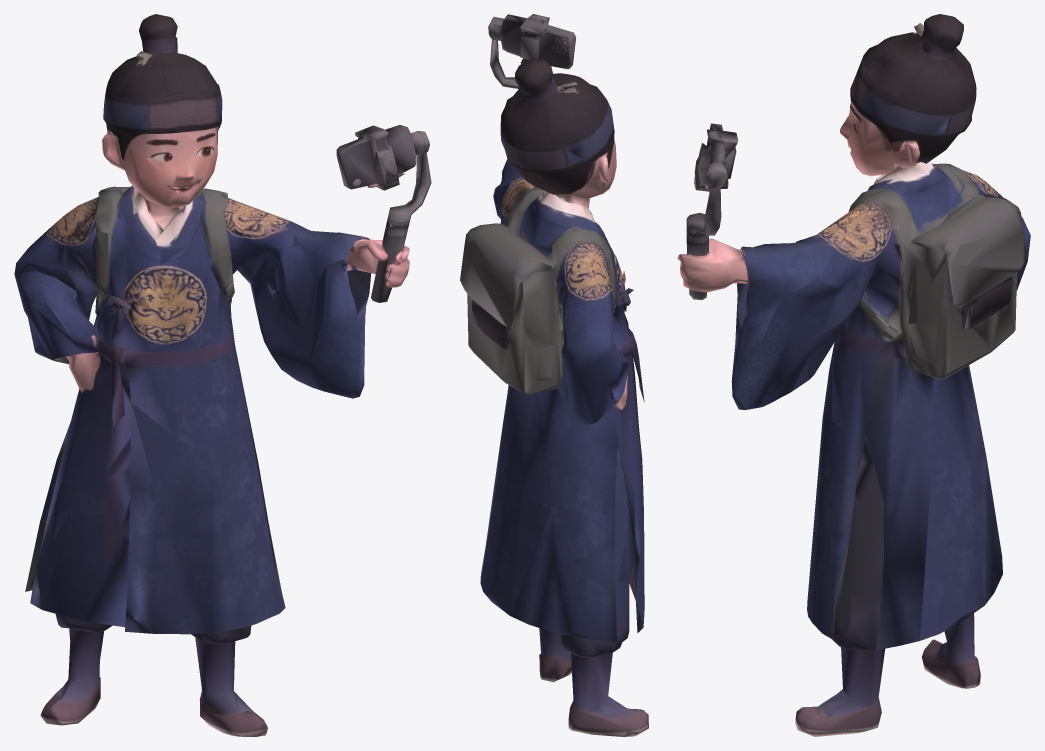
Rendered from danjong-hyung-selca-lowpoly.glb.
3 renders of one model, left to right at view 1: azimuth 30°, elevation 25°; view 2: azimuth 150°, elevation 25°; view 3: azimuth 270°, elevation 25°, orthographic. The views are drawn at different scales.
Parts seen in each view (by area): view 1: Mesh_0; view 2: Mesh_0; view 3: Mesh_0.
Boxes of the visible parts, box(x1,y1,x2,y2) form: Mesh_0: box(14, 14, 431, 736); Mesh_0: box(460, 14, 648, 736); Mesh_0: box(677, 14, 1030, 736).
Bounding box in the file's own units: 0.7212 × 1.7 × 0.7785.
1 material, 1 textured.
